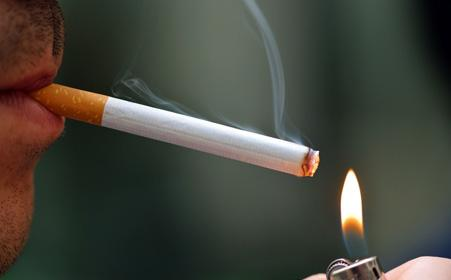smoke: (248, 3, 301, 137)
